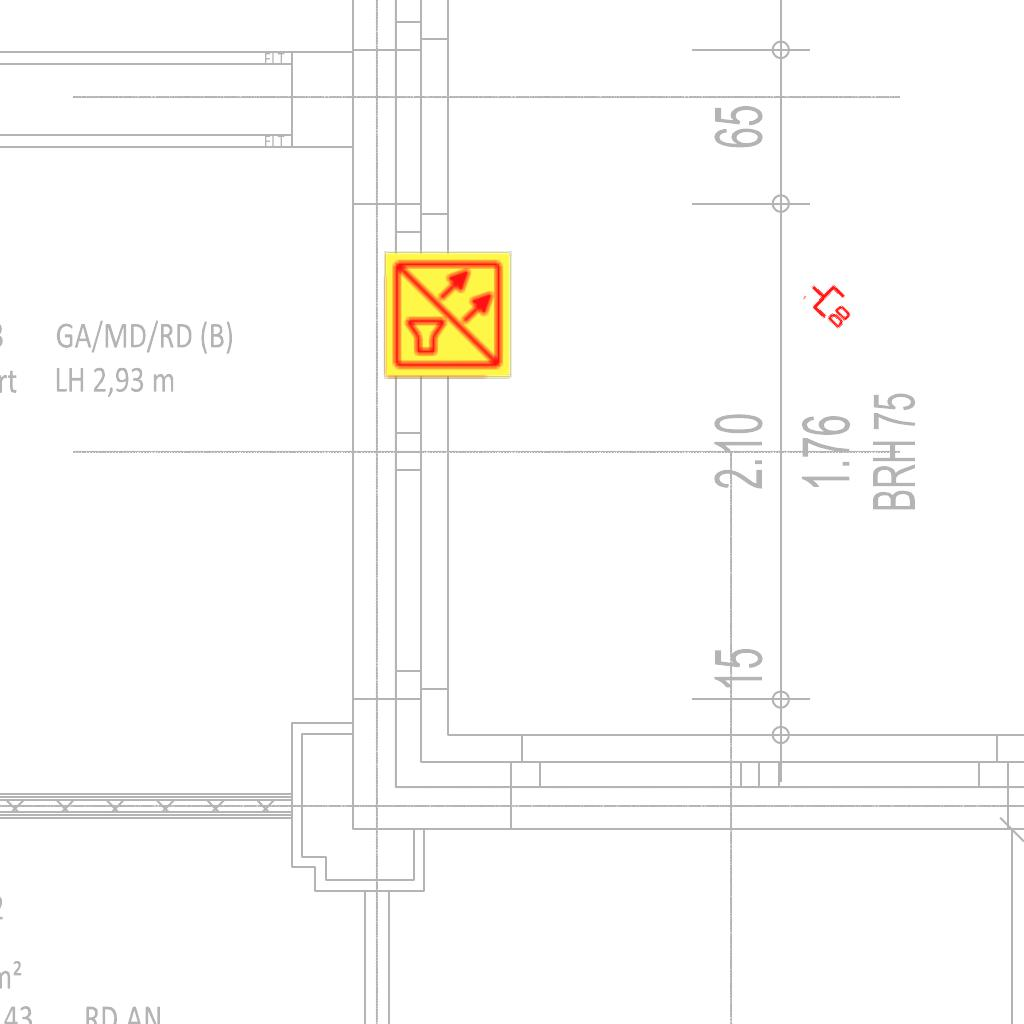Datenanschluss_zweifach: (800, 272, 862, 333)
OKW_Multisensormelder_(Kombination_optischer_Rauch-Kahlenmonoxid_Waerme-Melder): (382, 249, 514, 381)
